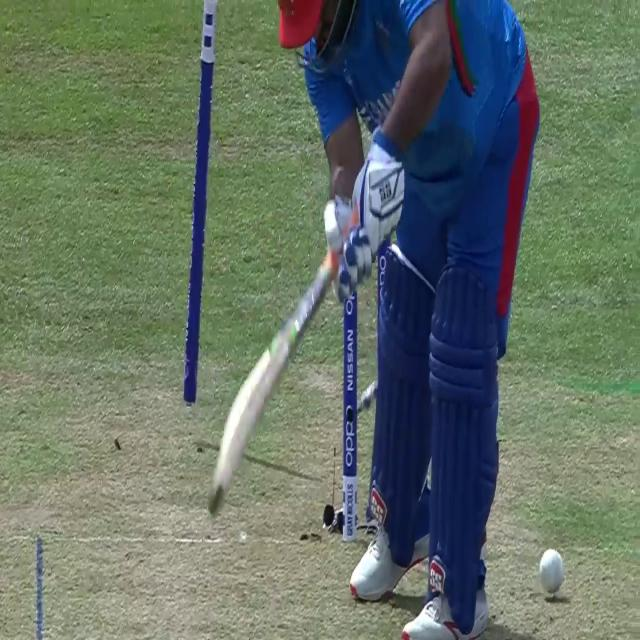ball: (539, 547, 565, 593)
